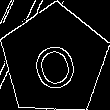O_N: (28, 29, 81, 91)
